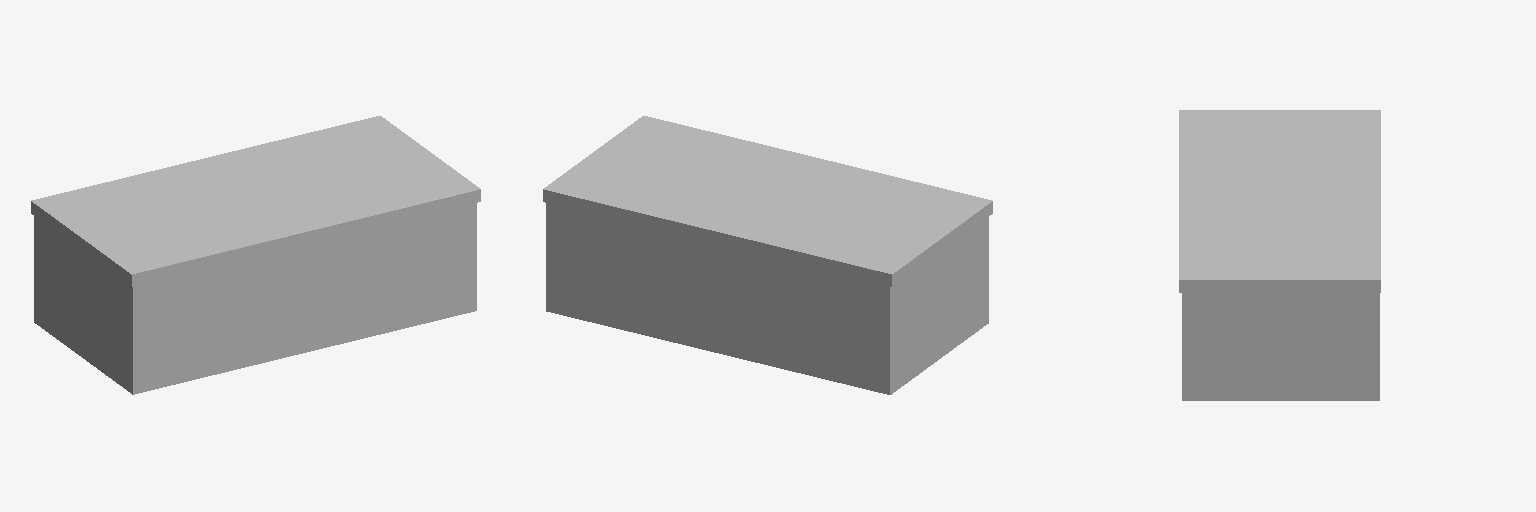
File: rattanTable.obj
3 renders of one model, left to right at view 1: azimuth 30°, elevation 25°; view 2: azimuth 150°, elevation 25°; view 3: azimuth 270°, elevation 25°, orthographic.
Visible parts, largest first — view 1: table_Cube.001; view 2: table_Cube.001; view 3: table_Cube.001.
Boxes of the visible parts, x1,y1,x2,y2 form: table_Cube.001: [31, 116, 480, 394]; table_Cube.001: [543, 116, 992, 394]; table_Cube.001: [1179, 110, 1380, 400].
Bounding box in the file's own units: 120 × 40 × 60.